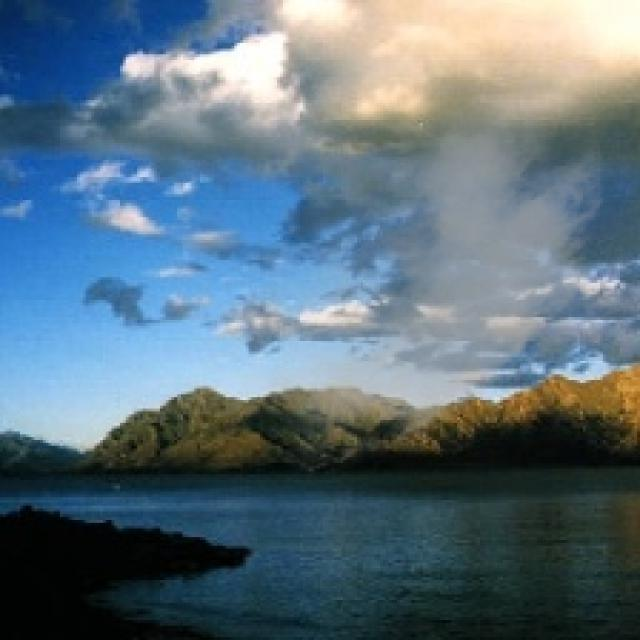smoke: (206, 86, 620, 480)
